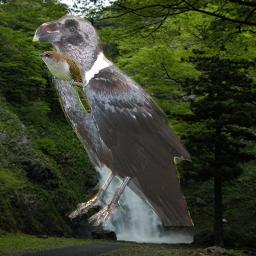Crow: (32, 13, 194, 226)
Cuckoo: (32, 51, 92, 115)
